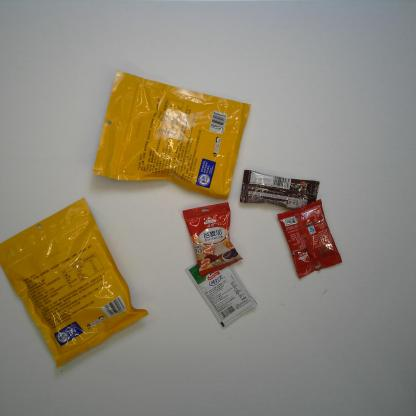Chocolate: (239, 169, 321, 210)
Dried Fruit: (0, 197, 148, 368), (91, 69, 251, 200)
Instant Drink: (276, 198, 344, 280), (182, 201, 244, 276)
Seasoner: (184, 259, 258, 328)
